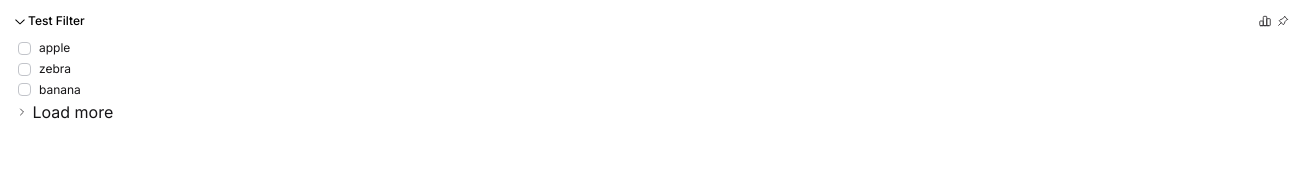
Test: FilterGroup › should show percentages, if enabled
The width and height of the screenshot is (1304, 172).
Click the checkbox with test id "toggle-distribution-button-Test Filter": (1265, 21) [1256,12,1274,30]
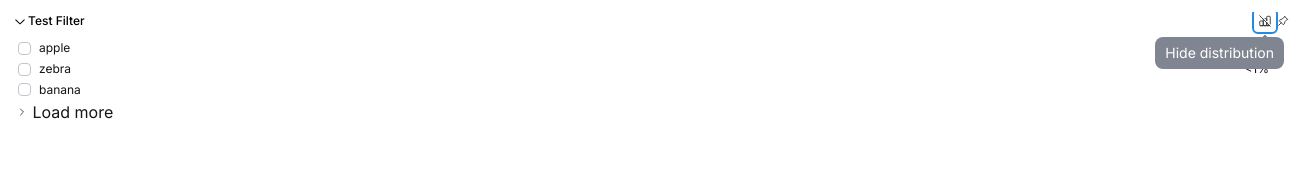
Check: the text "~99%" is shown 2 times, box [1234,40,1269,57]; [1244,61,1269,78]
Check: the text "~99%" is shown, box [1234,40,1269,57]
Check: the text "<1%" is shown, box [1244,61,1269,78]
